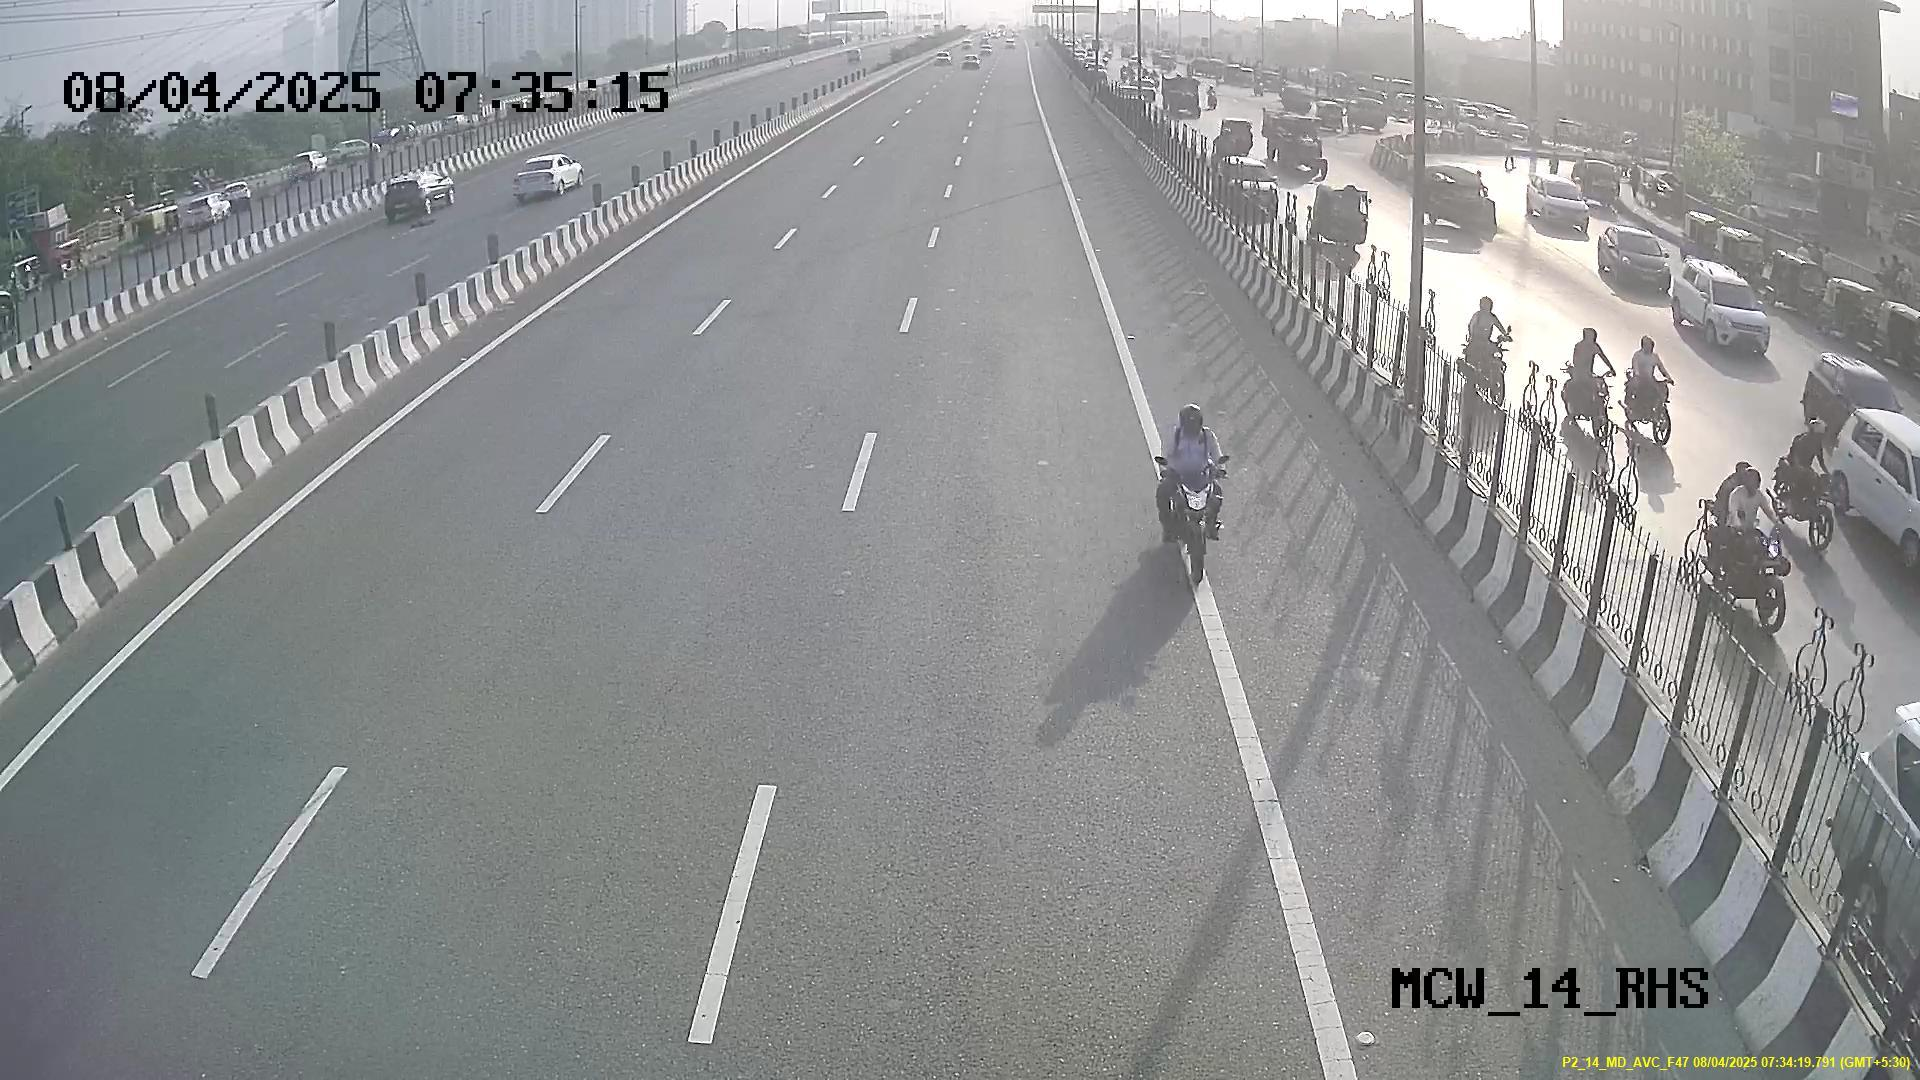bike: (1146, 393, 1230, 584)
